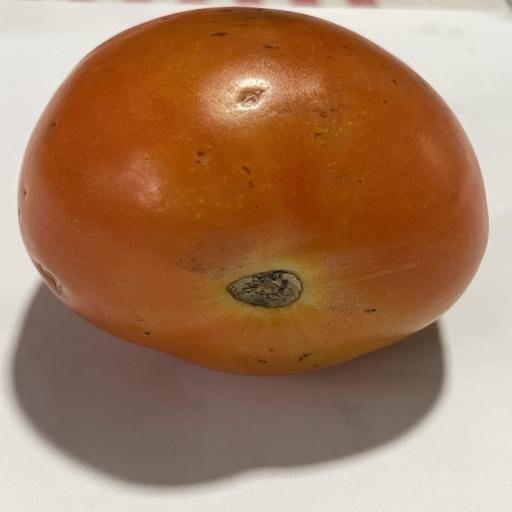ripe: (18, 6, 488, 375)
